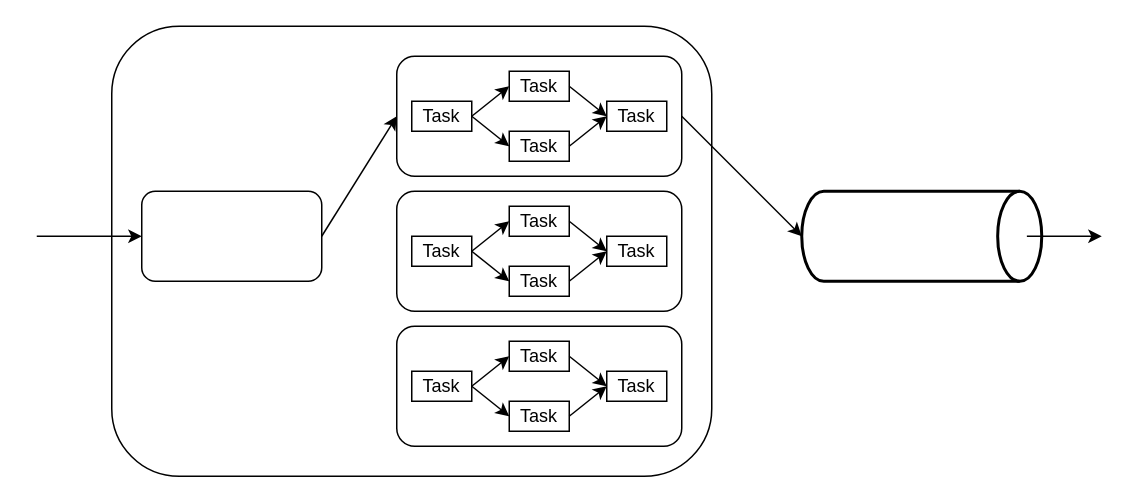
Image size: 1140x503. Some labels were removed from this diagram. Here are the shapes that lost their labels. From the top down, the centre of each, then its label:
At point (231, 235): "Orchestrator".
At point (921, 235): "ResponseQueue".
